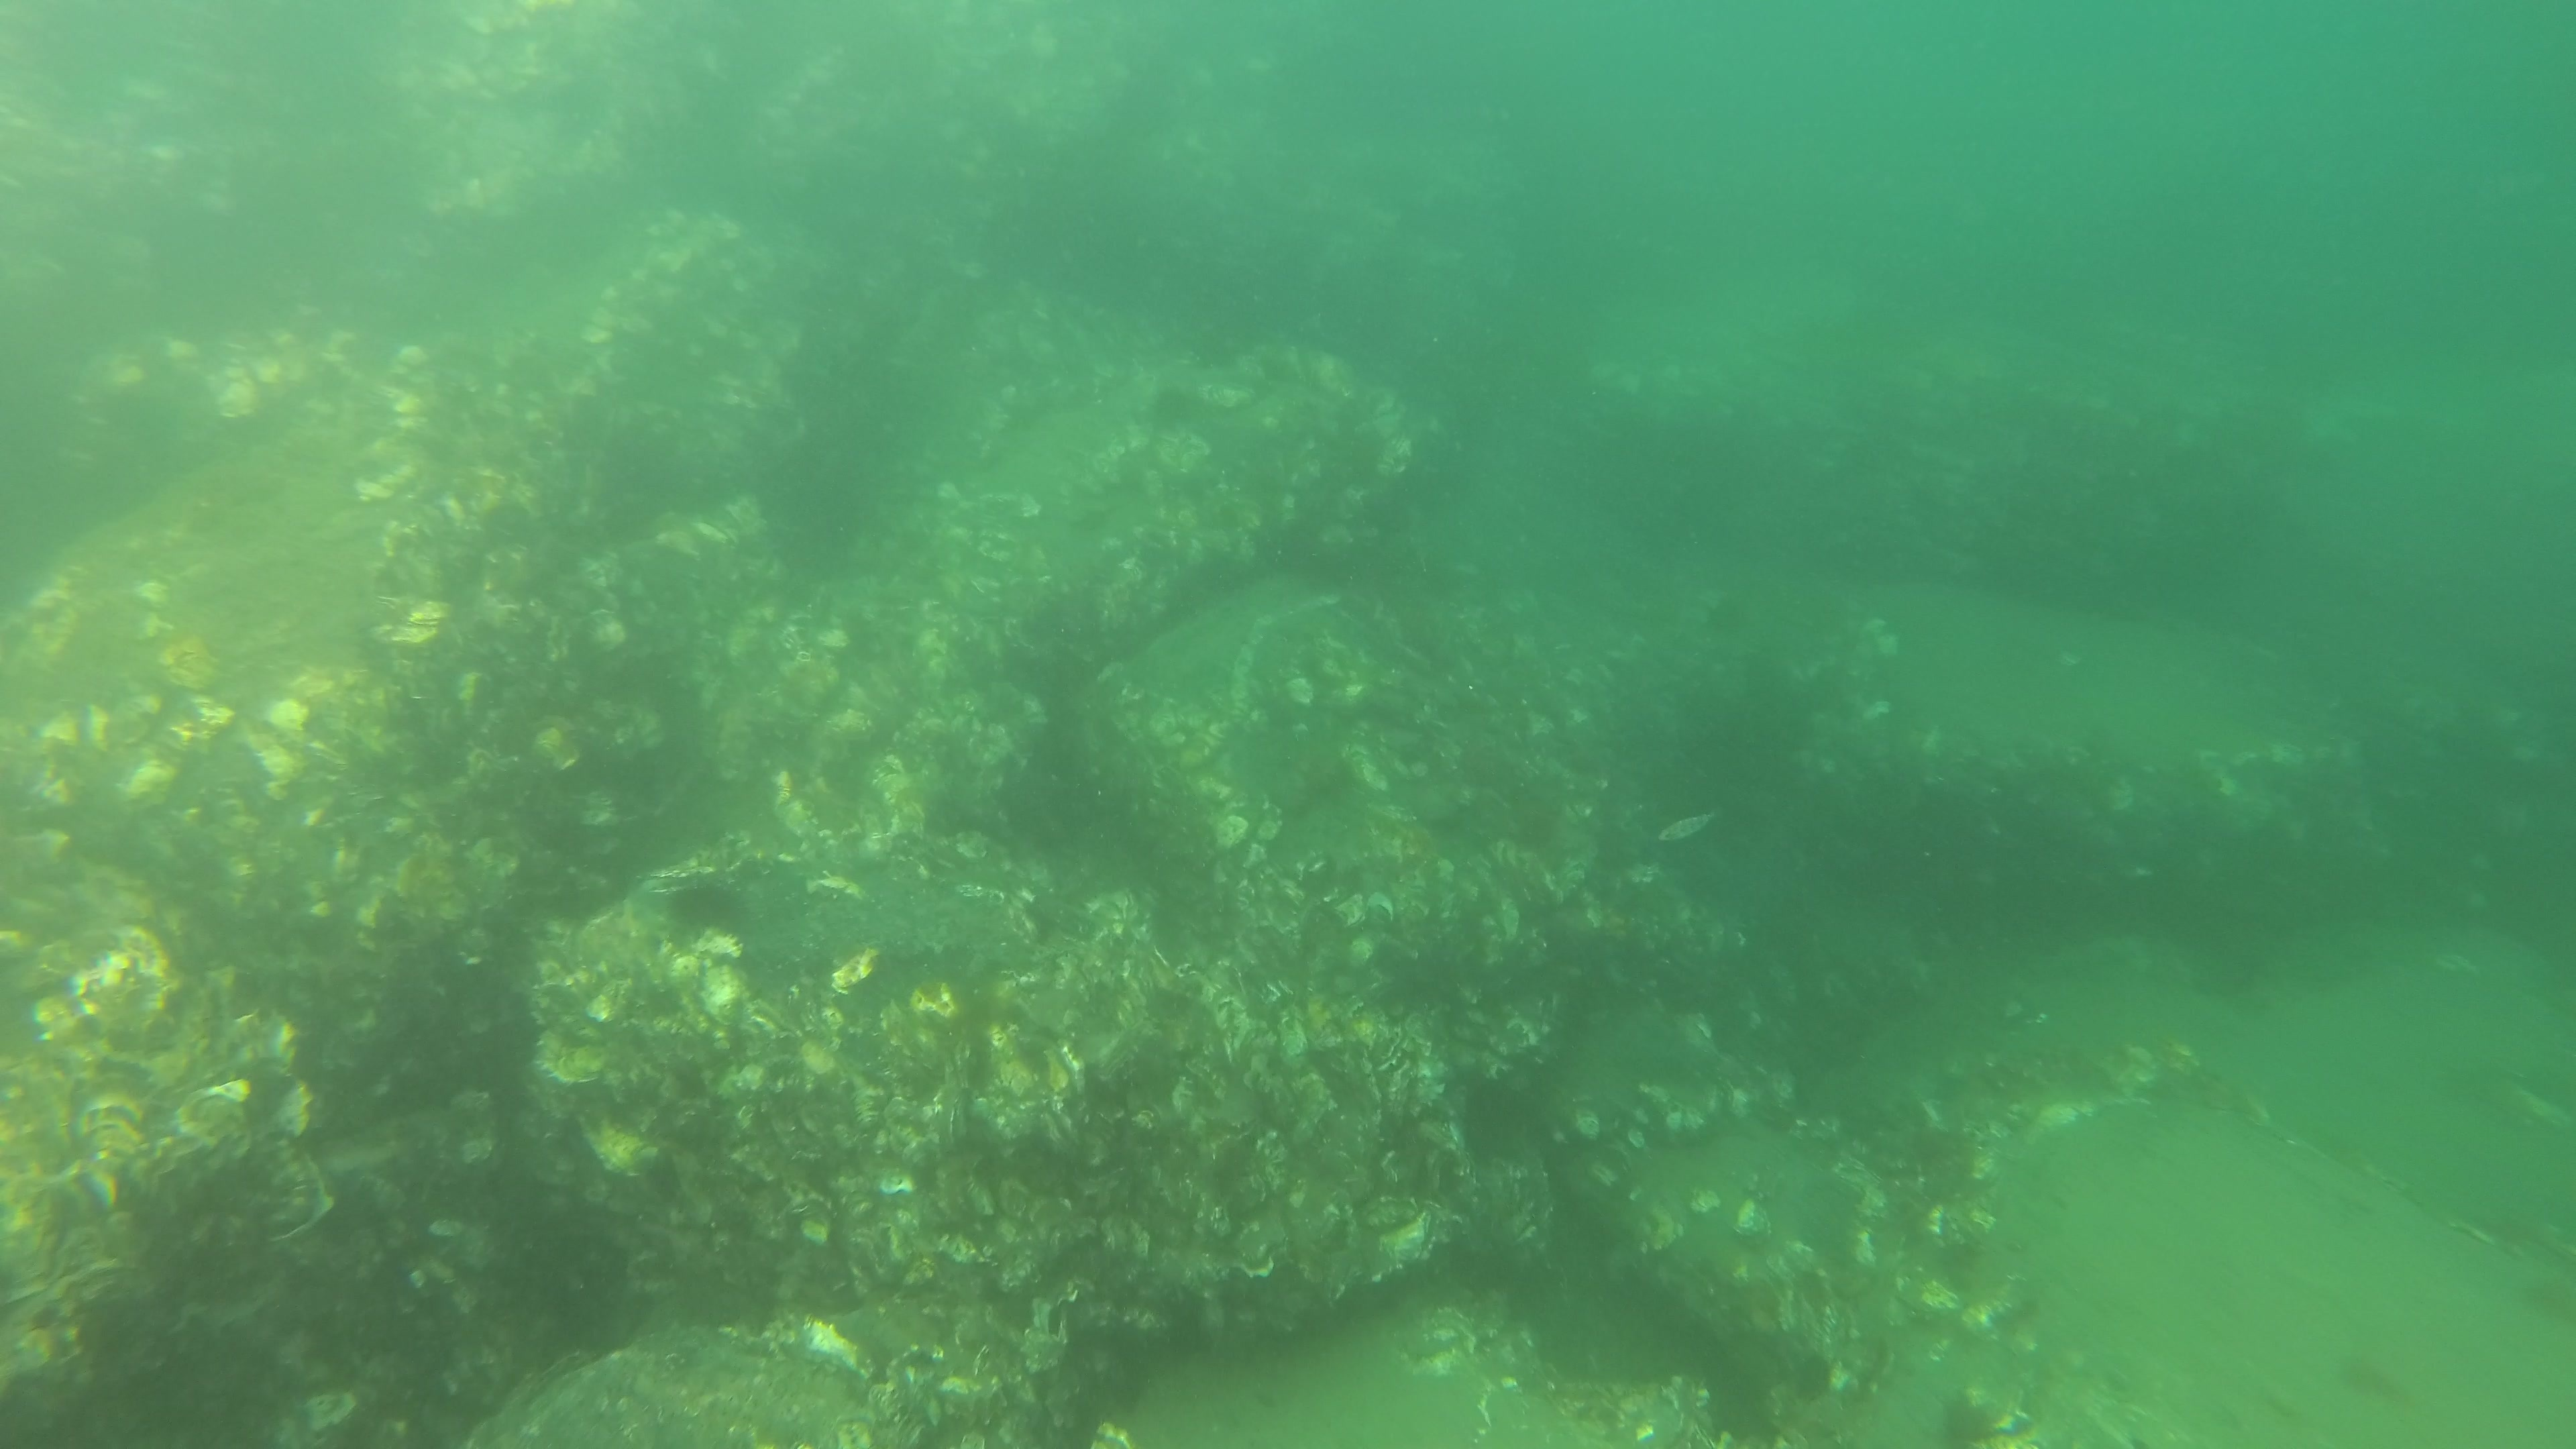echinus: (669, 878, 740, 939), (1934, 1394, 1997, 1449), (1146, 384, 1201, 435)
